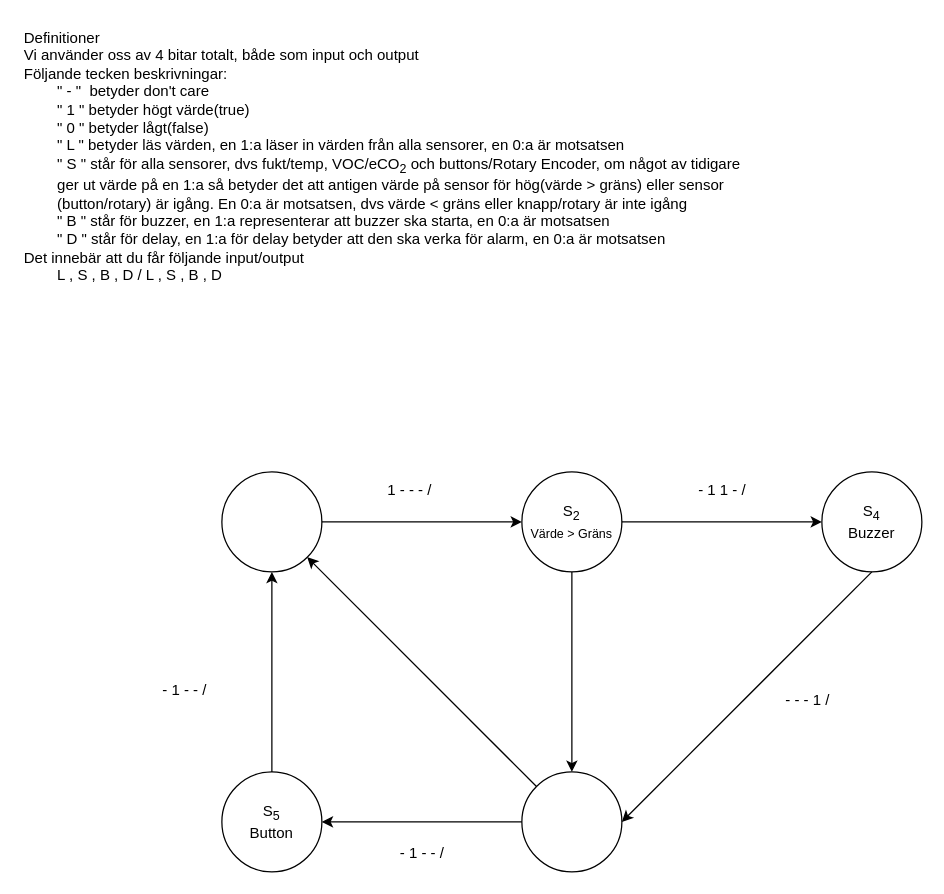
Image size: 944x894. Some labels were removed from this diagram. The shapes that lost their labels are listed below. From the top down, each one's box as (x1, y1, x2, y2) in pixels, then its label:
(221, 471, 322, 572): S 1 Läs värden
(521, 771, 622, 872): S 3 Delay
